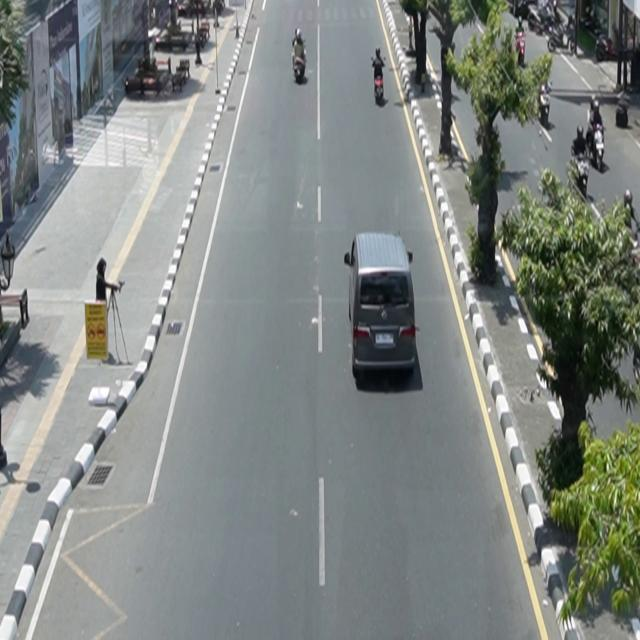car: (345, 232, 418, 379)
